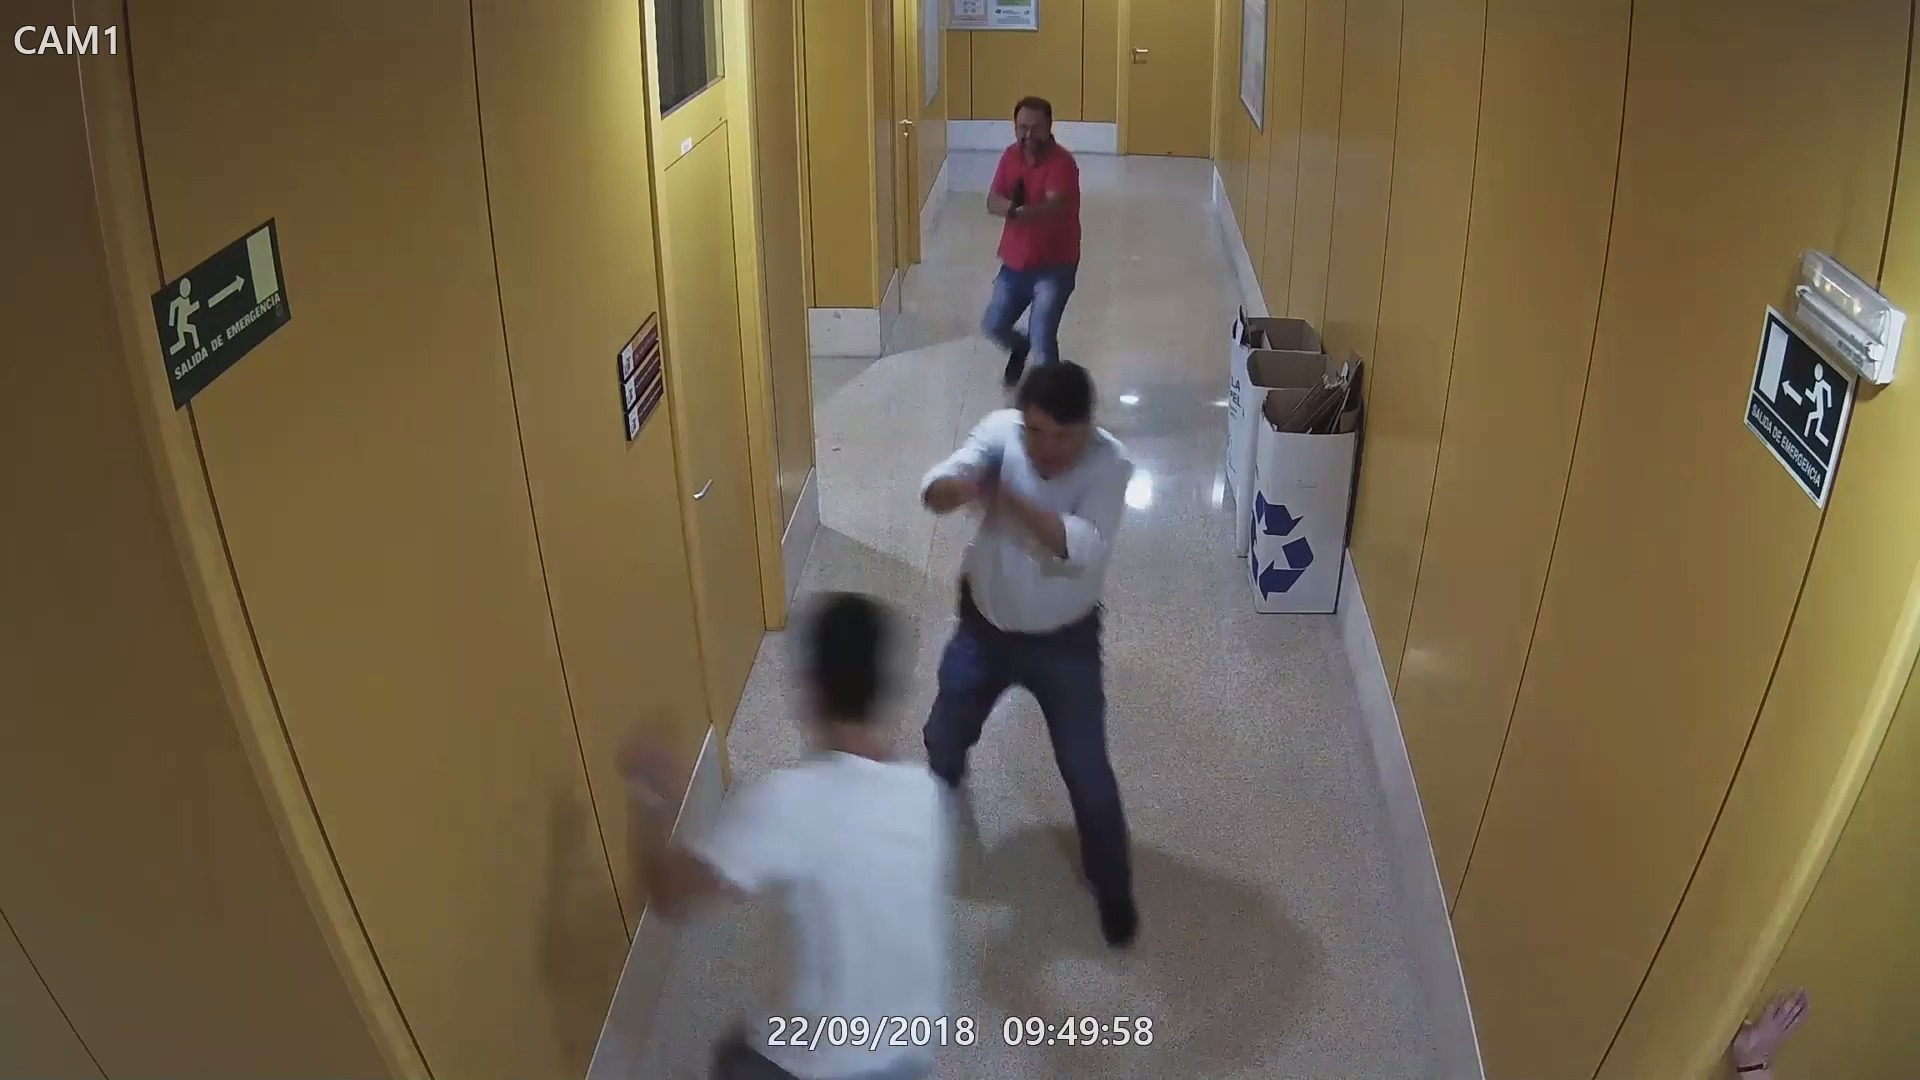Handgun: (971, 450, 1011, 522)
Short_rifle: (1006, 174, 1035, 229)
